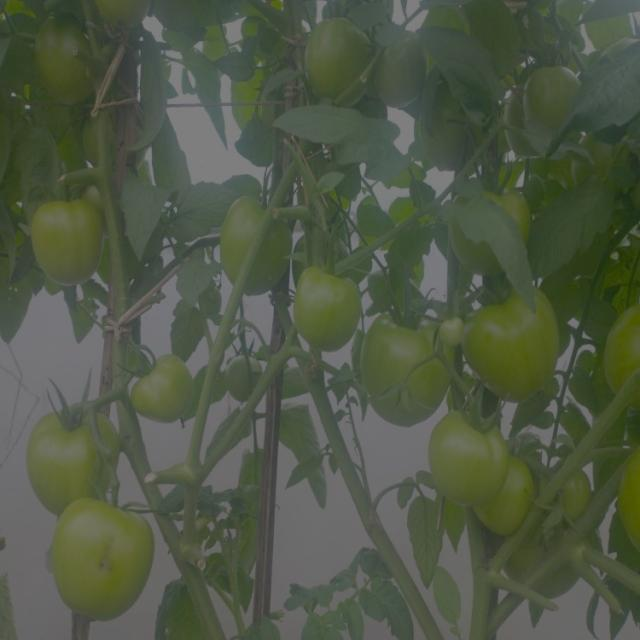tomato: (49, 496, 155, 623), (23, 388, 116, 506), (357, 307, 447, 421), (464, 275, 545, 395), (457, 165, 538, 269), (28, 199, 110, 294), (431, 408, 506, 510), (220, 195, 288, 302), (34, 17, 111, 109), (289, 259, 360, 357), (304, 14, 366, 106), (524, 59, 590, 139), (132, 348, 197, 425), (602, 301, 640, 411), (379, 32, 429, 112), (489, 460, 537, 542), (556, 460, 601, 528), (225, 341, 269, 409), (617, 444, 640, 553), (87, 118, 121, 163)
